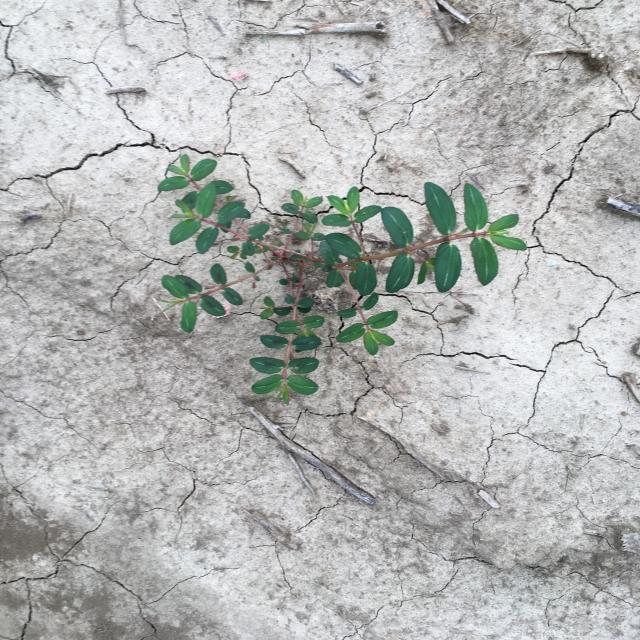SpottedSpurge: (157, 154, 528, 406)
